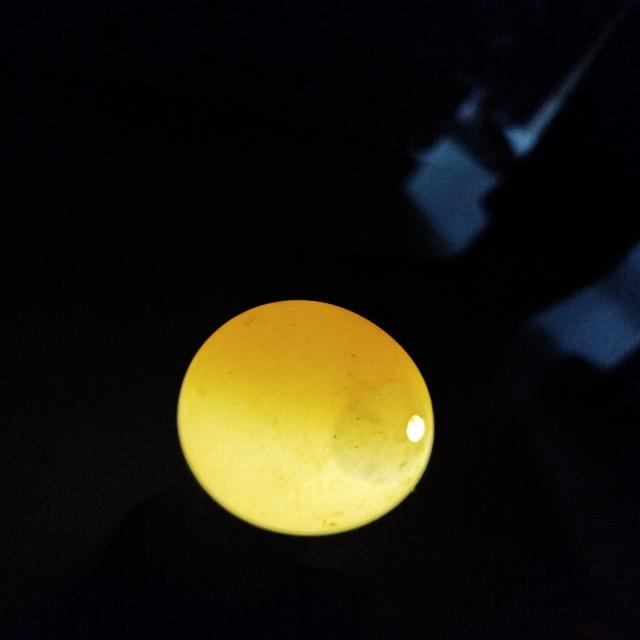Camara de Ar: (330, 380, 428, 484)
